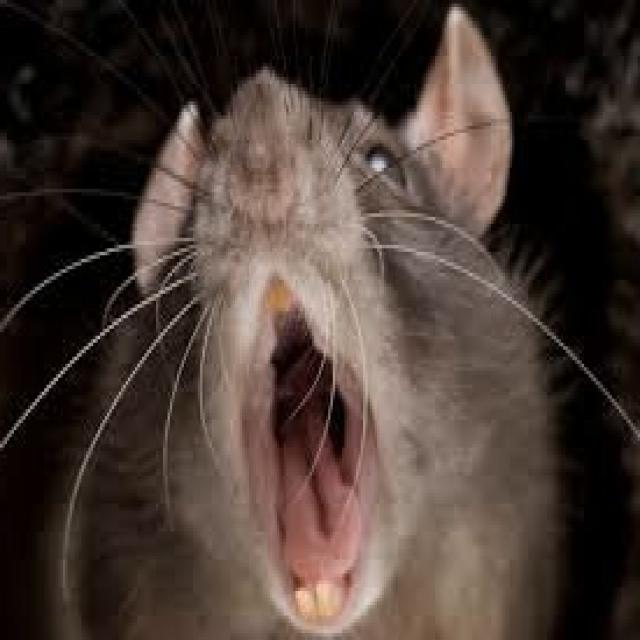rat: (2, 3, 628, 633)
